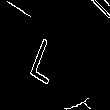L_NE: (36, 26, 74, 84)
